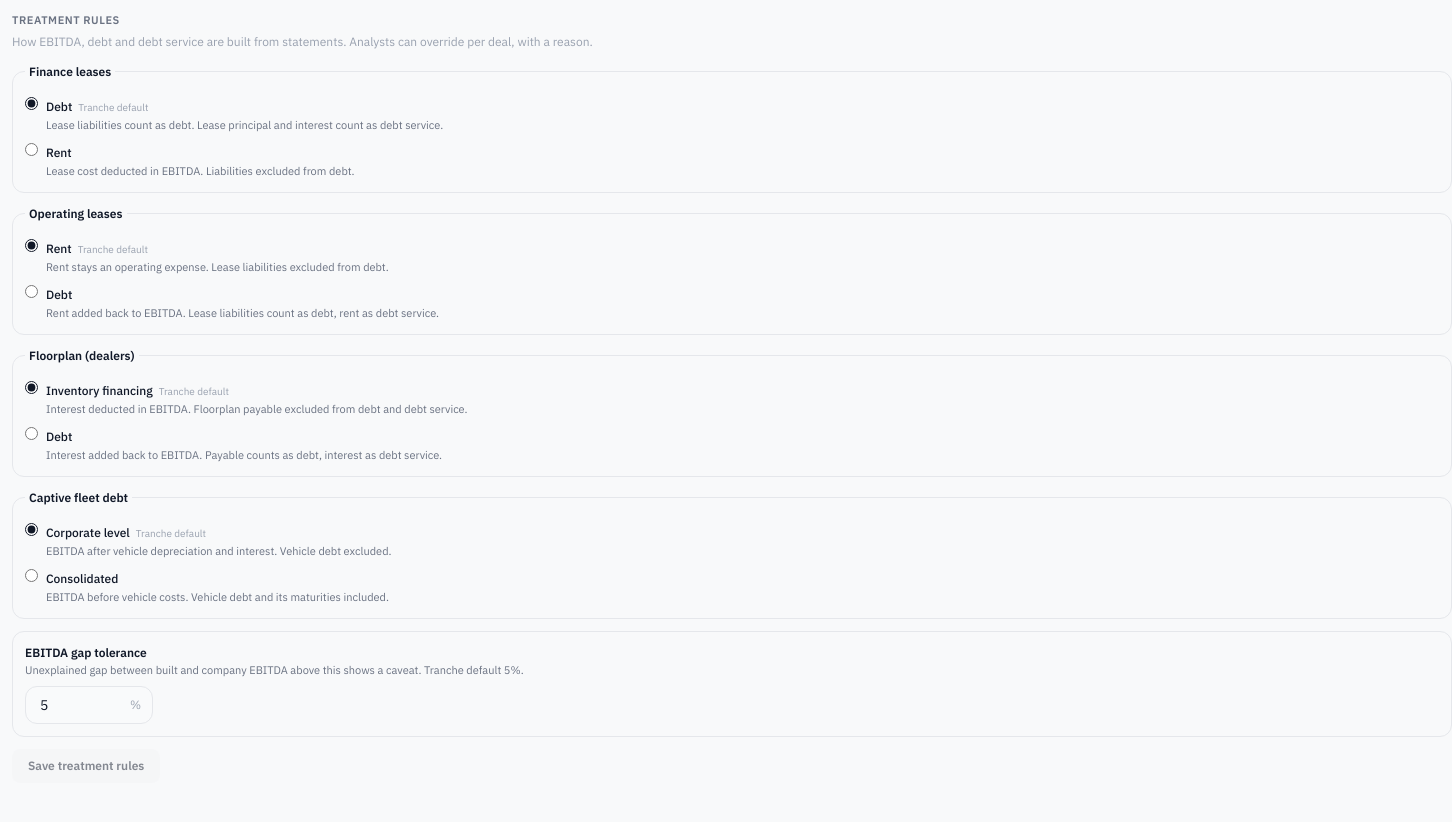
Test case: TreatmentRulesCard › admin save sends validated rules and shows the saved-deals notice
Expected: the button "Save treatment rules" is disabled, [12, 749, 160, 783]
Click the 6th radio button.
click(32, 434)  # box [25, 427, 38, 440]
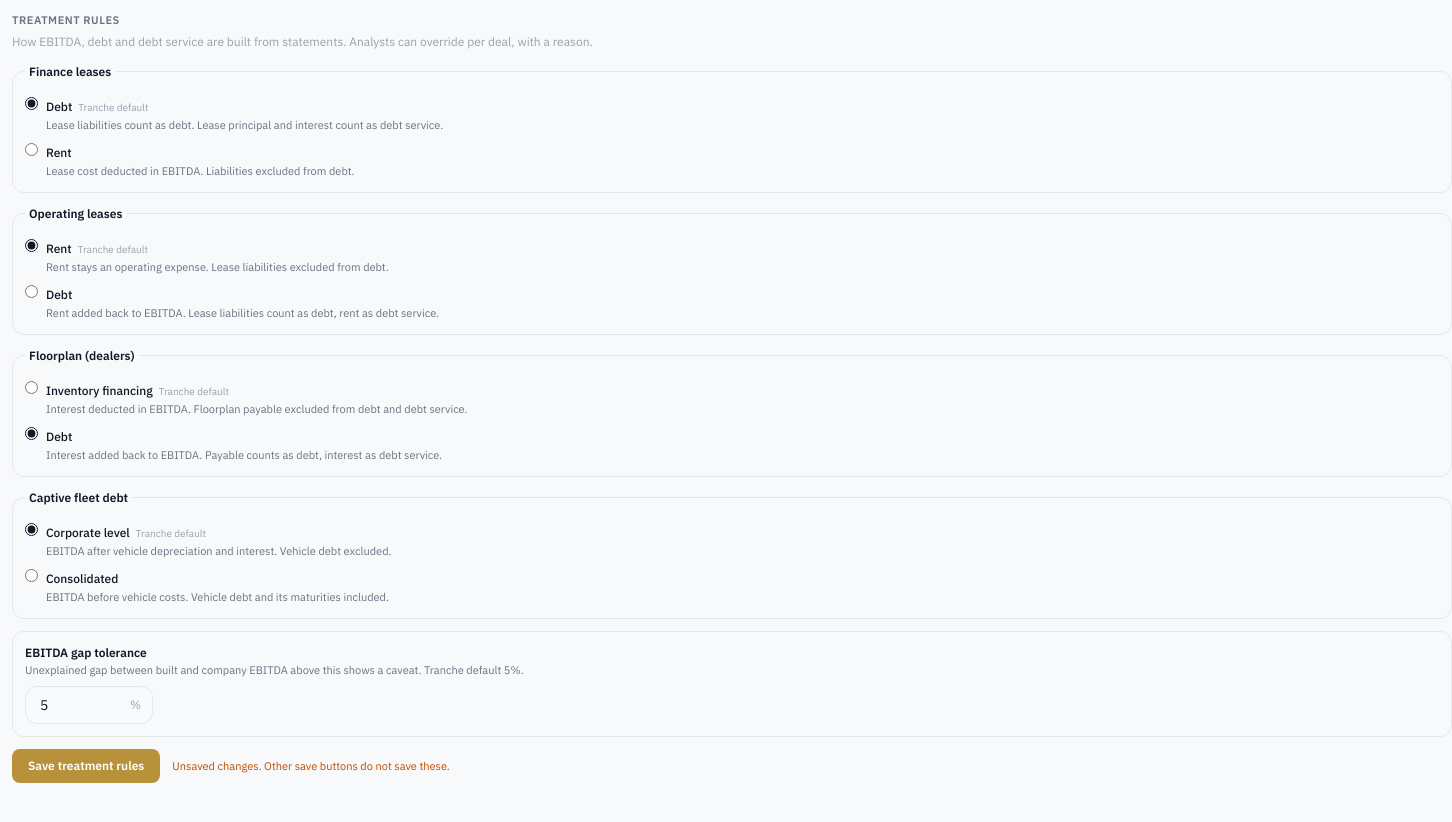
Replace the text in the number field labelled "EBITDA gap tolerance" with "7.5" at (89, 705), box [25, 686, 153, 724]
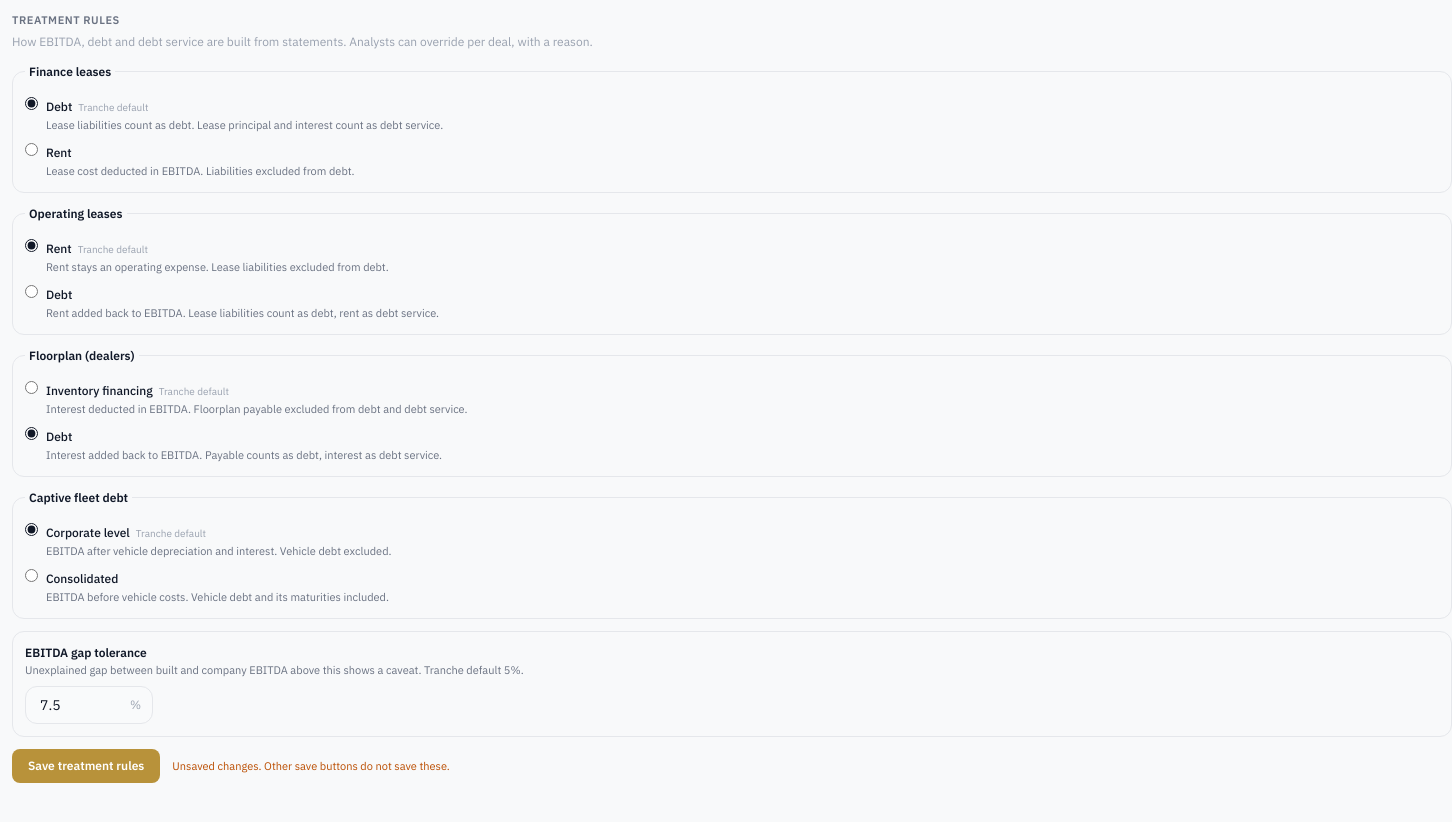
Click the button "Save treatment rules".
click(86, 766)  # box [12, 749, 160, 783]
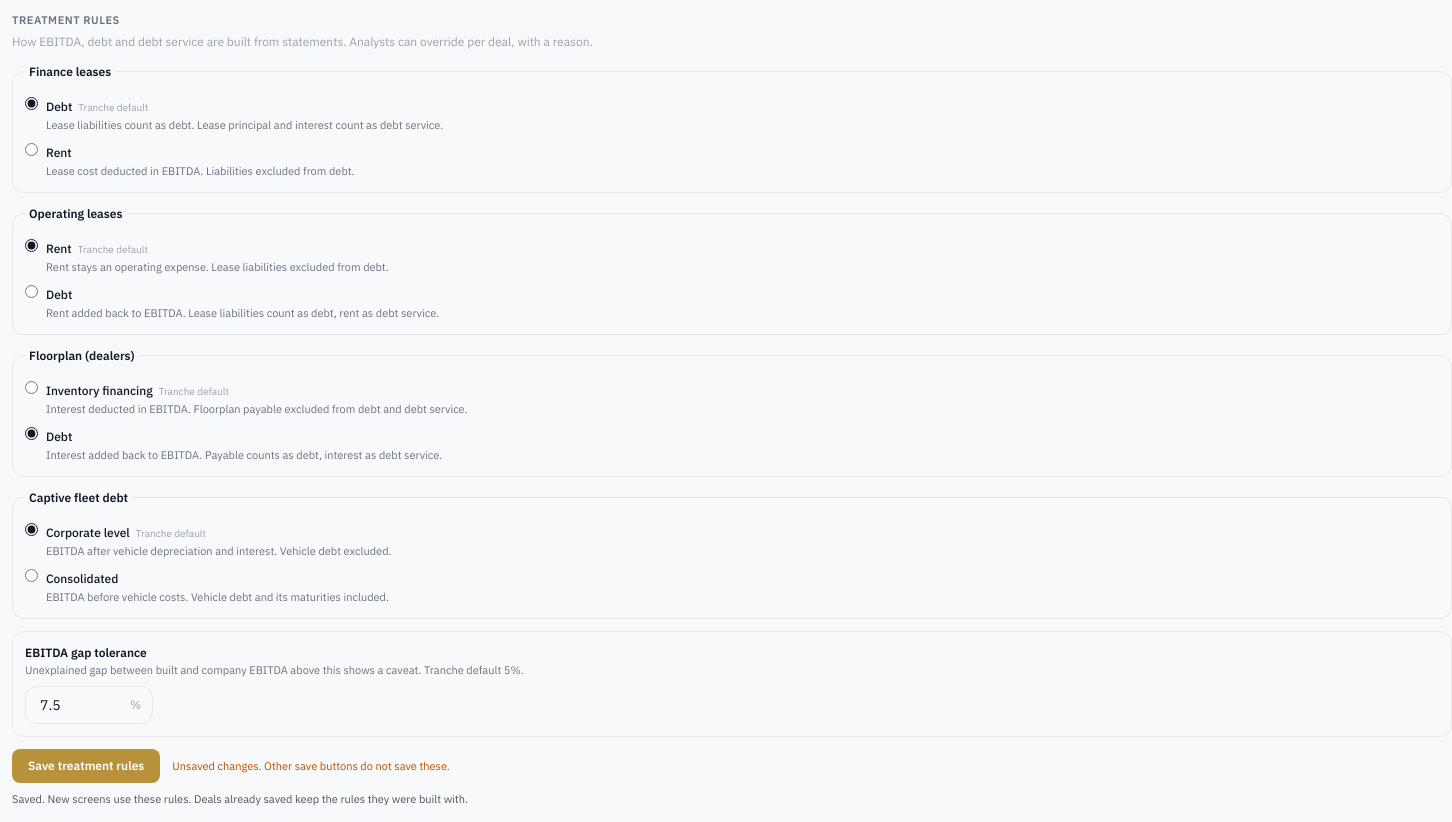
Now the message shows "Deals already saved keep the rules they were built with.", box [12, 792, 468, 806]
